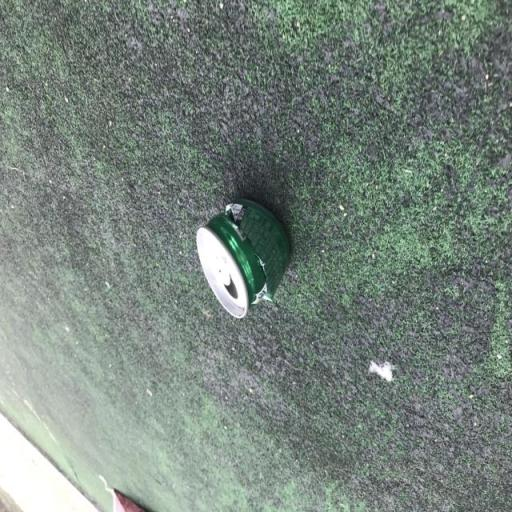metal: (180, 186, 302, 338)
